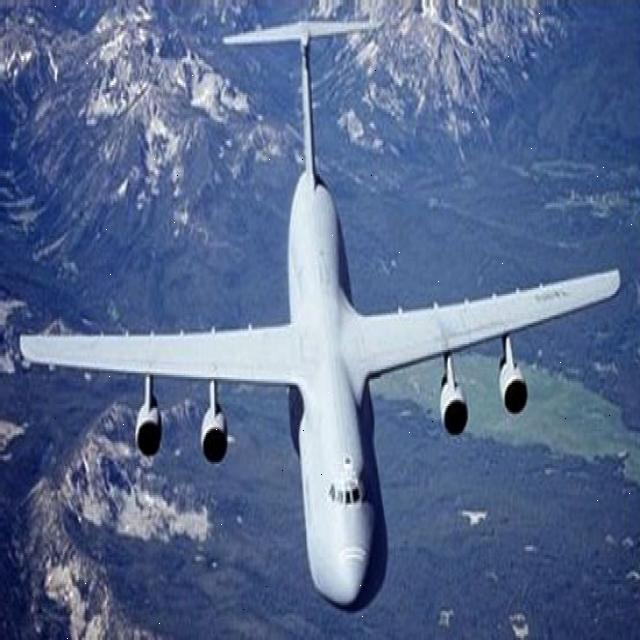C5: (0, 0, 634, 636)
